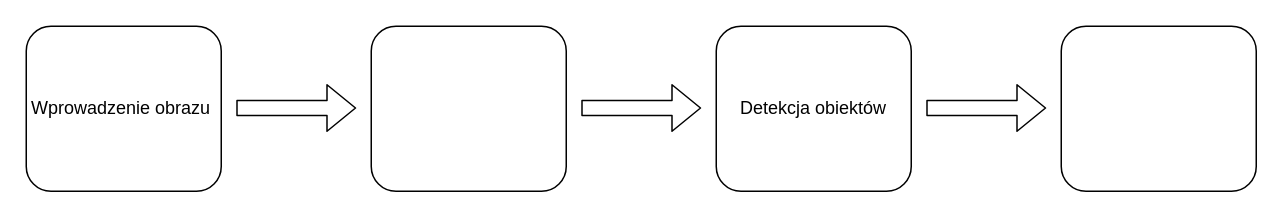
The diagram is 1283 pixels wide and 218 high, and some of its shapes have lost their labels. Here are the shapes that lost their labels. From the top down, the centre of each, then its label:
At (468,108): "Transformacja obrazu".
At (1158,108): "Zliczanie obiektów".
